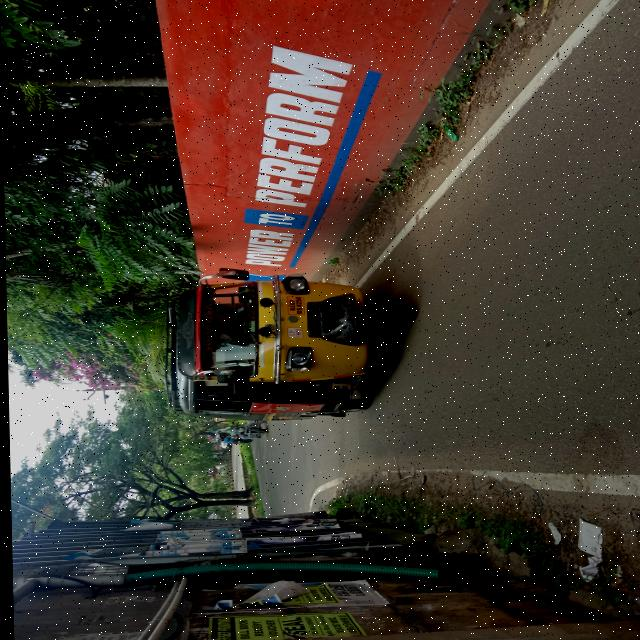plate: (284, 295, 306, 317)
